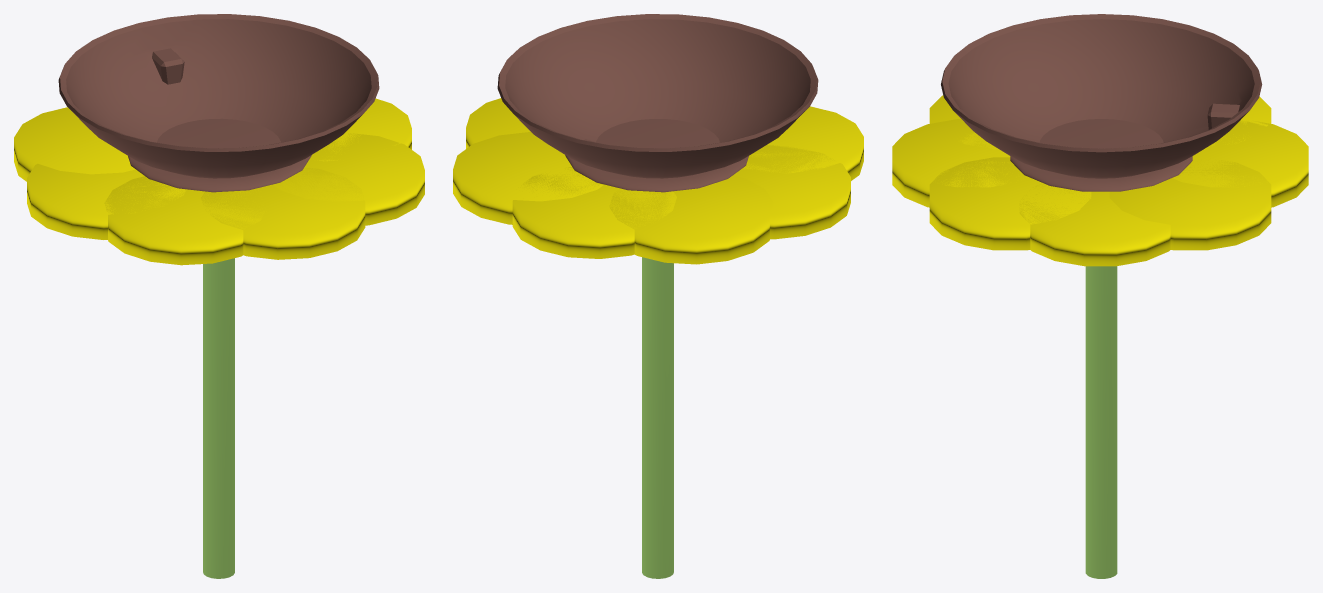
File: tutorial.fbx
The picture shows the model from 3 angles, left to right: view 1: azimuth 30°, elevation 25°; view 2: azimuth 150°, elevation 25°; view 3: azimuth 270°, elevation 25°; orthographic projection.
Parts seen in each view (by area): view 1: flower_padels, tutorial_cirkle, flowerstem, middle_flower; view 2: flower_padels, tutorial_cirkle, flowerstem, middle_flower; view 3: flower_padels, tutorial_cirkle, flowerstem, middle_flower.
Part boxes in pixels (x1=…): flower_padels: x1=14, y1=98, x2=424, y2=265; tutorial_cirkle: x1=58, y1=14, x2=379, y2=178; flowerstem: x1=203, y1=258, x2=234, y2=578; middle_flower: x1=128, y1=118, x2=311, y2=192; flower_padels: x1=453, y1=98, x2=863, y2=264; tutorial_cirkle: x1=497, y1=14, x2=818, y2=178; flowerstem: x1=642, y1=257, x2=673, y2=578; middle_flower: x1=565, y1=119, x2=748, y2=192; flower_padels: x1=892, y1=95, x2=1308, y2=266; tutorial_cirkle: x1=941, y1=14, x2=1262, y2=178; flowerstem: x1=1085, y1=266, x2=1117, y2=578; middle_flower: x1=1010, y1=119, x2=1192, y2=191.
Size of the model in its own units: 12163 by 15846 by 12163.
